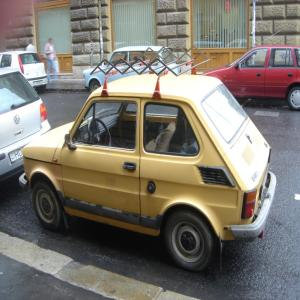Vehicle-registration-plate: (10, 148, 23, 165), (34, 81, 43, 88)
